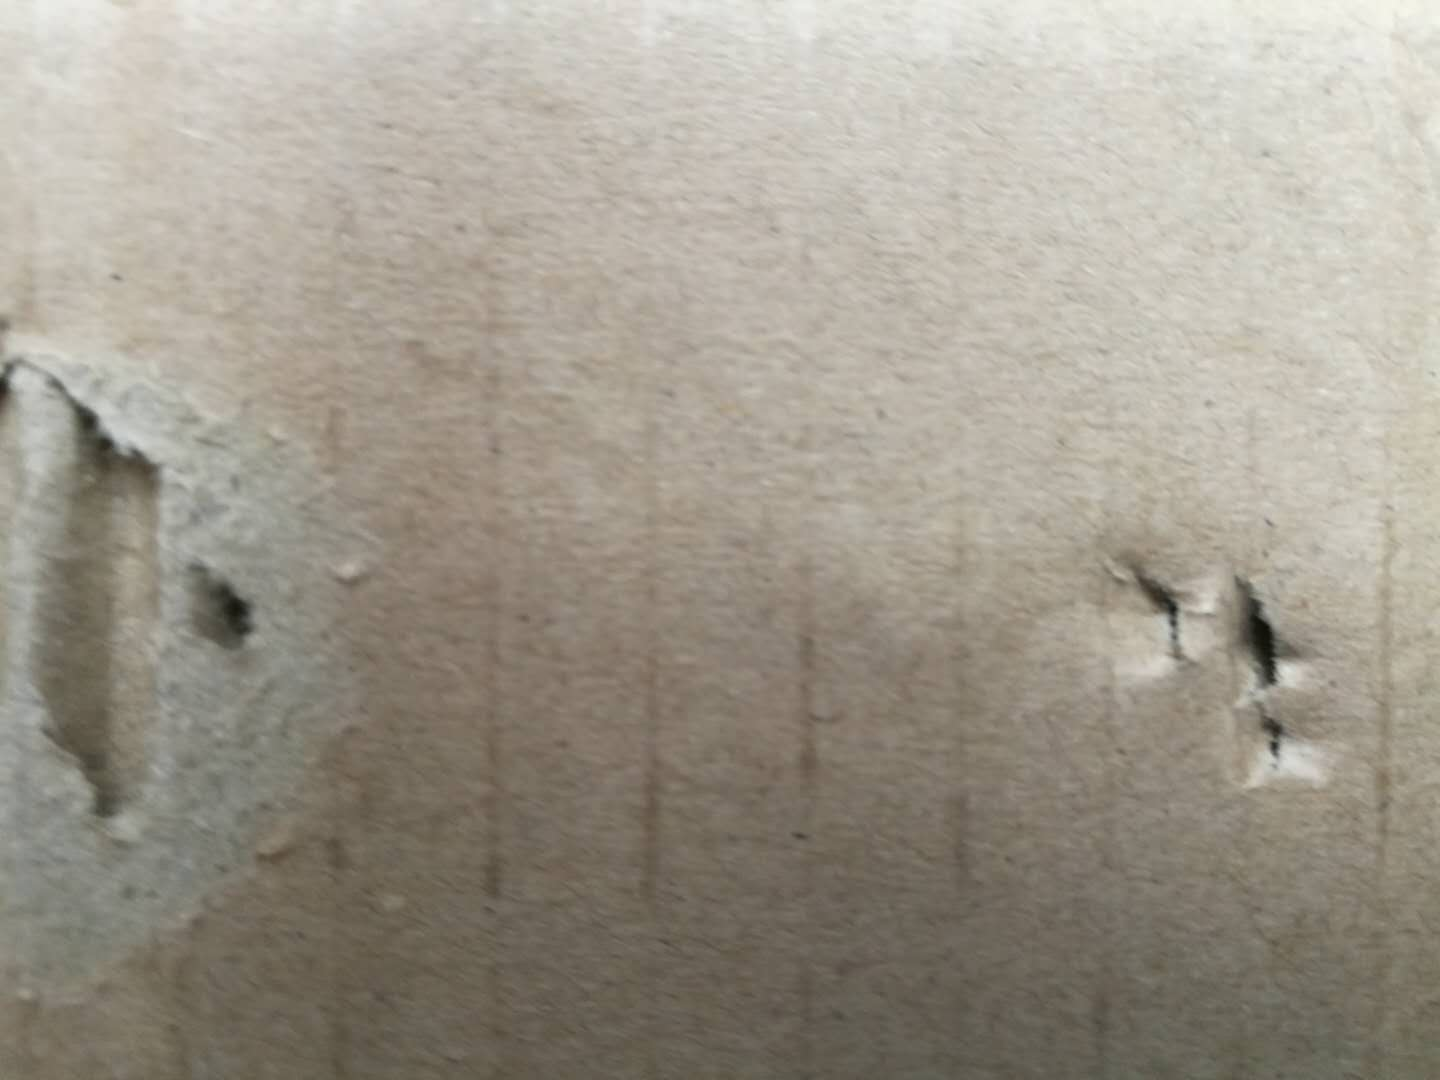defect: (3, 278, 403, 1026), (1020, 501, 1400, 828)
